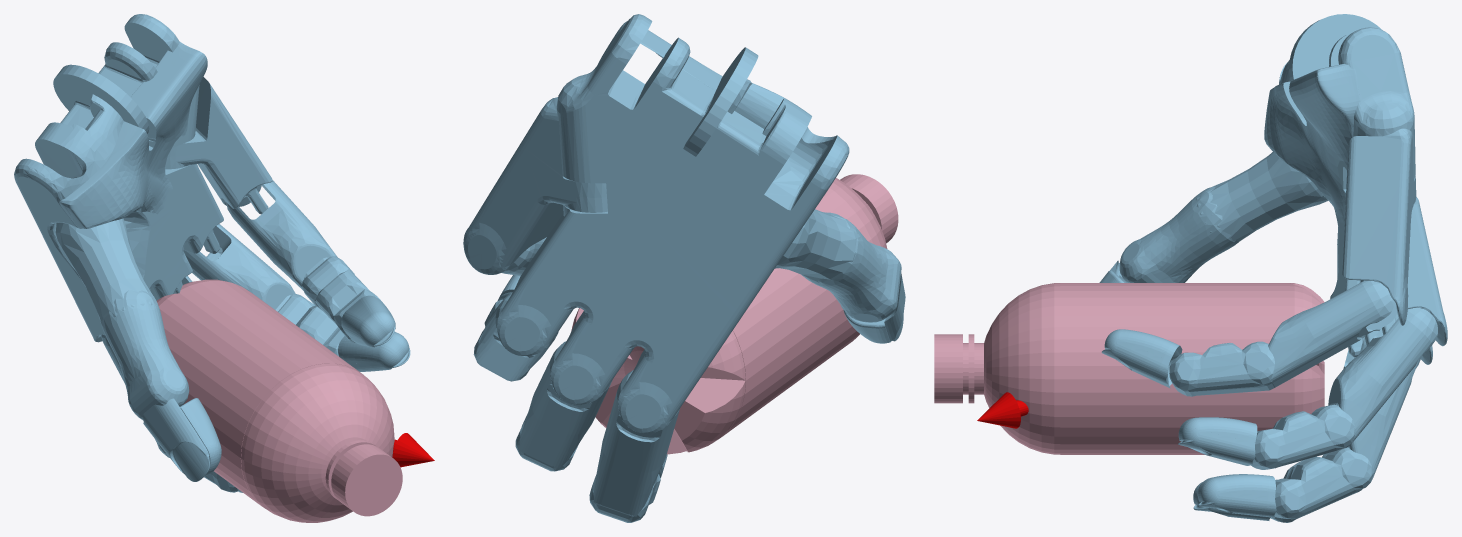
3 renders of one model, left to right at view 1: azimuth 30°, elevation 25°; view 2: azimuth 150°, elevation 25°; view 3: azimuth 270°, elevation 25°, orthographic. The views are drawn at different scales.
Visible parts, largest first — view 1: world, water_bottle.stl; view 2: world, water_bottle.stl; view 3: world, water_bottle.stl.
Part boxes in pixels (x1,y1,x2,y2): world: (14,14,434,492); water_bottle.stl: (156,279,402,522); world: (463,14,905,522); water_bottle.stl: (571,174,898,454); world: (977,14,1447,522); water_bottle.stl: (934,283,1324,454).
Size of the model in its own units: 0.1374 by 0.1812 by 0.1796.
